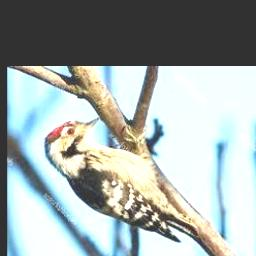Woodpecker: (44, 117, 199, 243)
